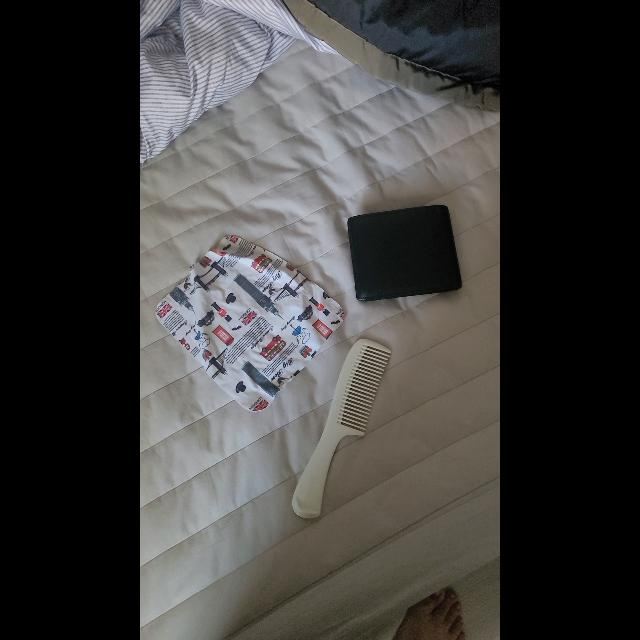COMB: (292, 338, 392, 518)
Glasses cleaning cloth: (154, 233, 346, 412)
WALLET: (348, 205, 462, 302)
